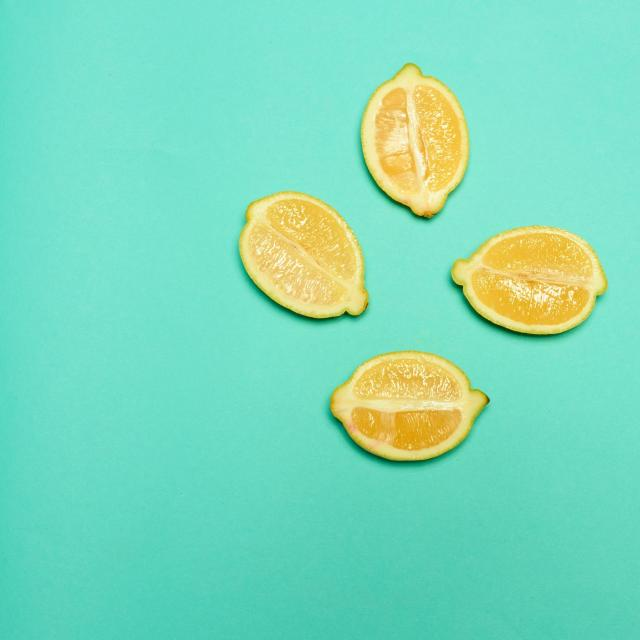lemon: (357, 56, 474, 222), (234, 188, 374, 326), (448, 224, 609, 338), (328, 349, 491, 461)
